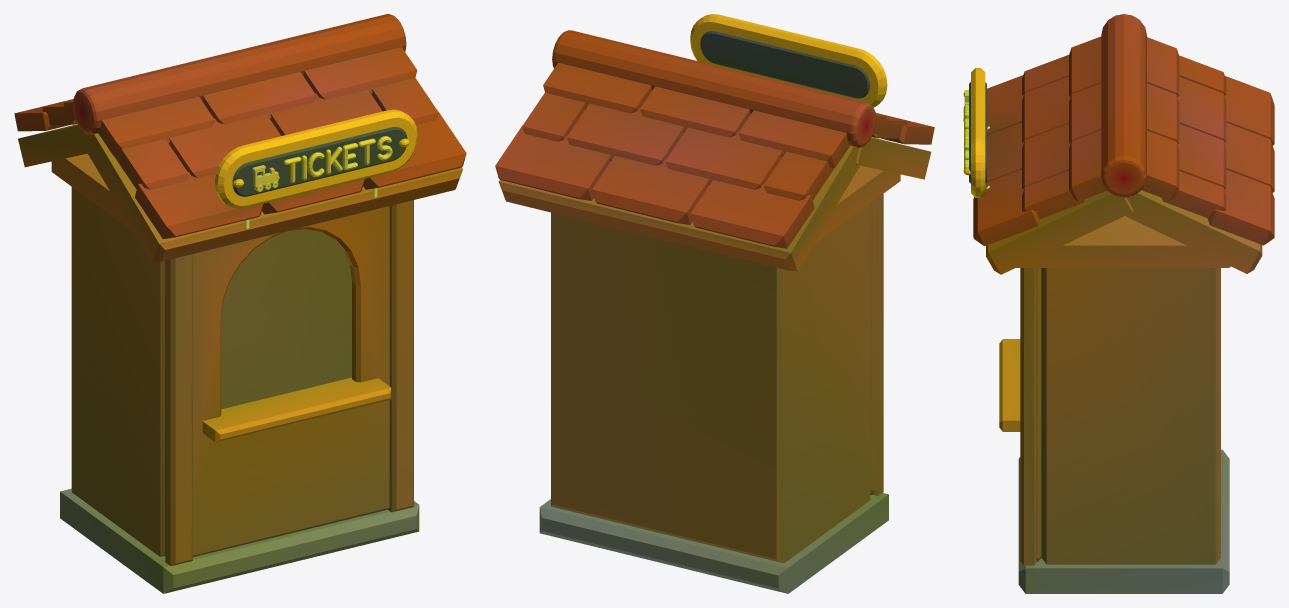
Rendered from Prop_TicketBooth.fbx.
3 renders of one model, left to right at view 1: azimuth 30°, elevation 25°; view 2: azimuth 150°, elevation 25°; view 3: azimuth 270°, elevation 25°, orthographic. The views are drawn at different scales.
Parts seen in each view (by area): view 1: Prop_TicketBooth; view 2: Prop_TicketBooth; view 3: Prop_TicketBooth.
Part boxes in pixels (x1,y1,x2,y2): Prop_TicketBooth: (14, 14, 466, 593); Prop_TicketBooth: (495, 14, 934, 593); Prop_TicketBooth: (963, 14, 1274, 593).
Size of the model in its own units: 1.96 by 2.82 by 1.77.
